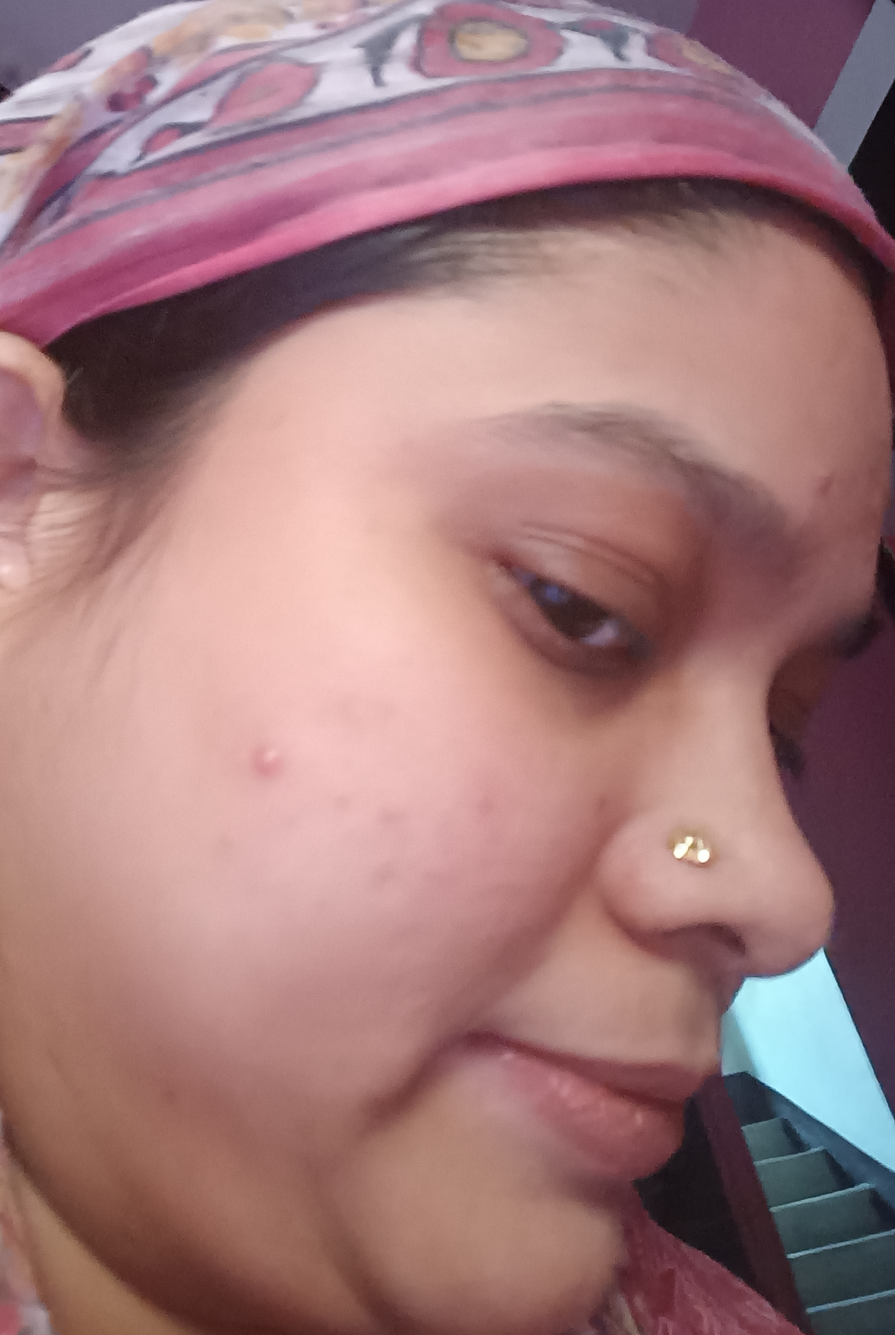papule: (236, 723, 296, 800)
